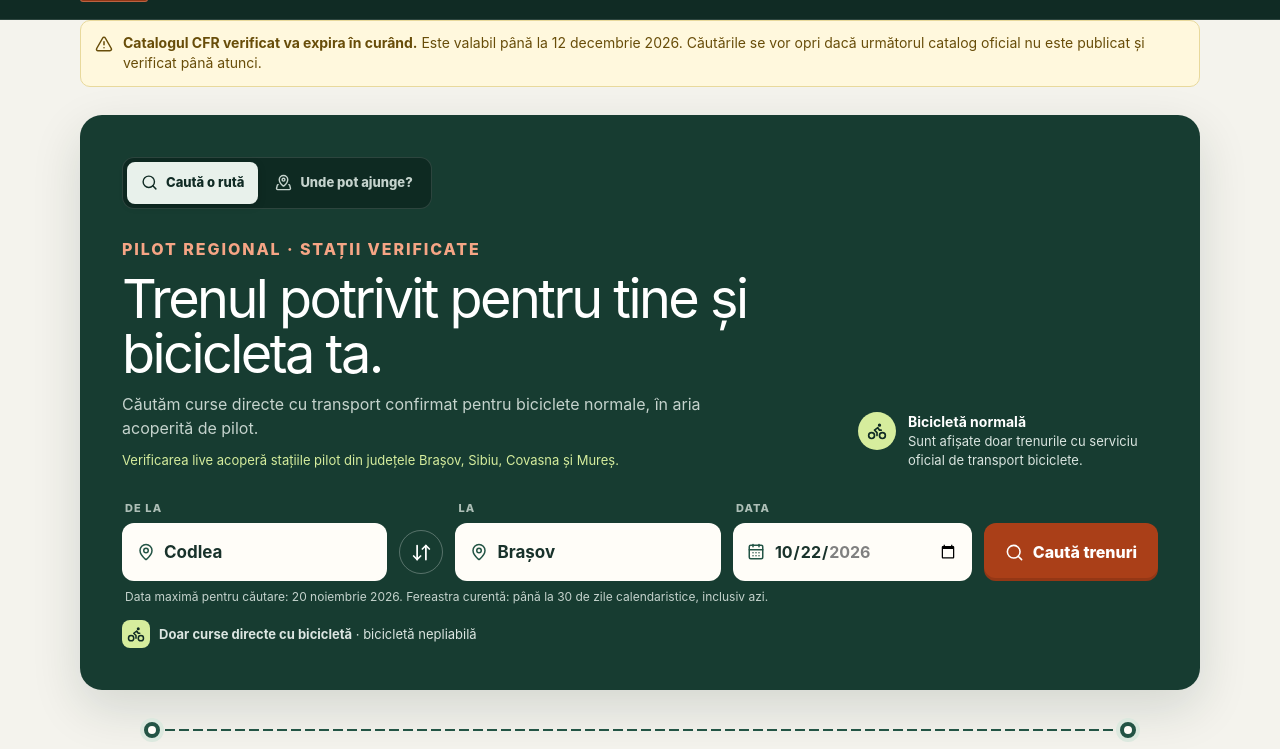
Test: BikeTrain app › discovers a direct destination and opens it in route search
Replace the text in the dropdown labelled "De la" with "Brașov" at (268, 552), box [164,526,372,580]
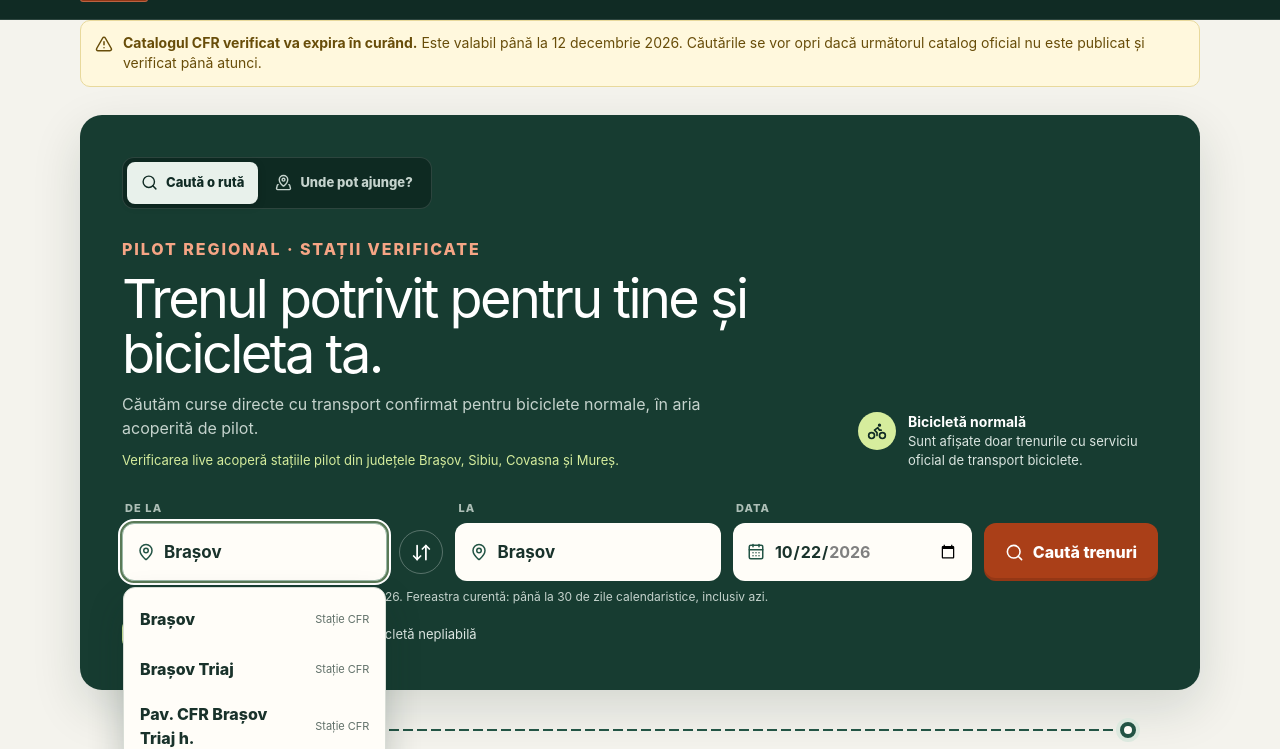
Press Arrowdown Enter
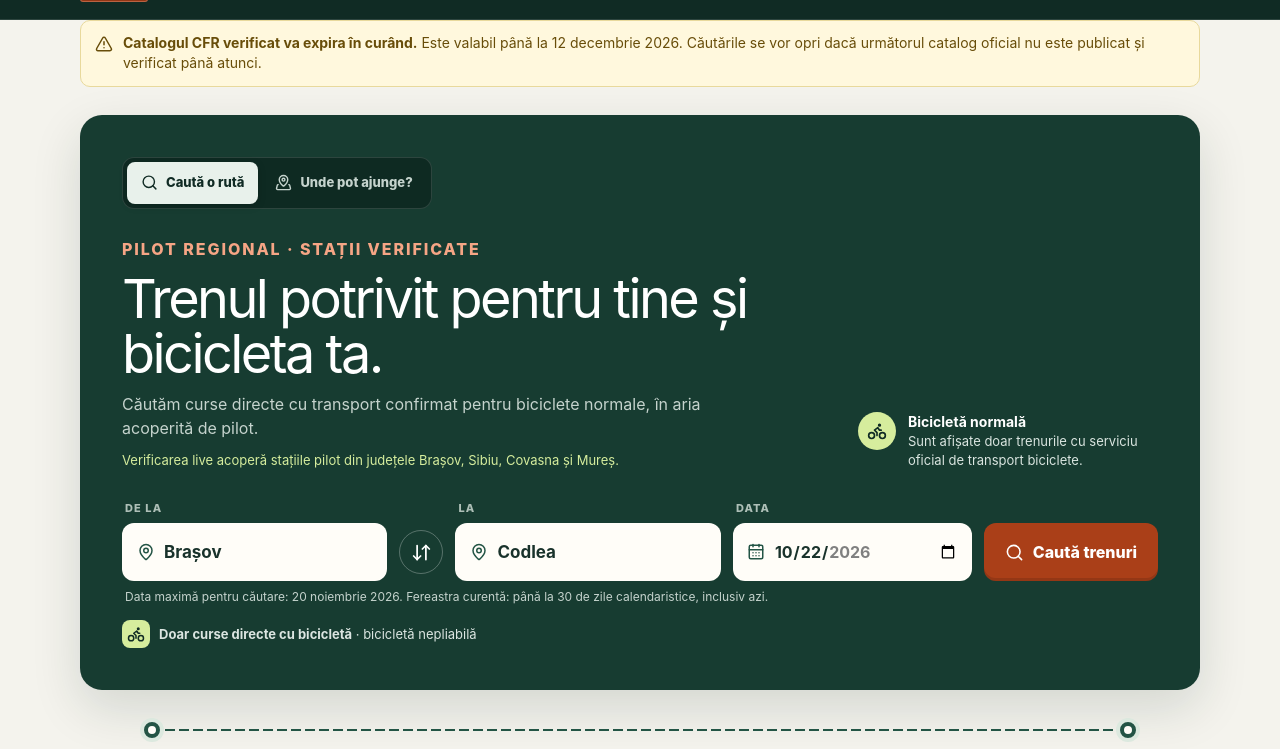
Click the tab "Unde pot ajunge?".
click(344, 183)  # box [261,162,427,204]
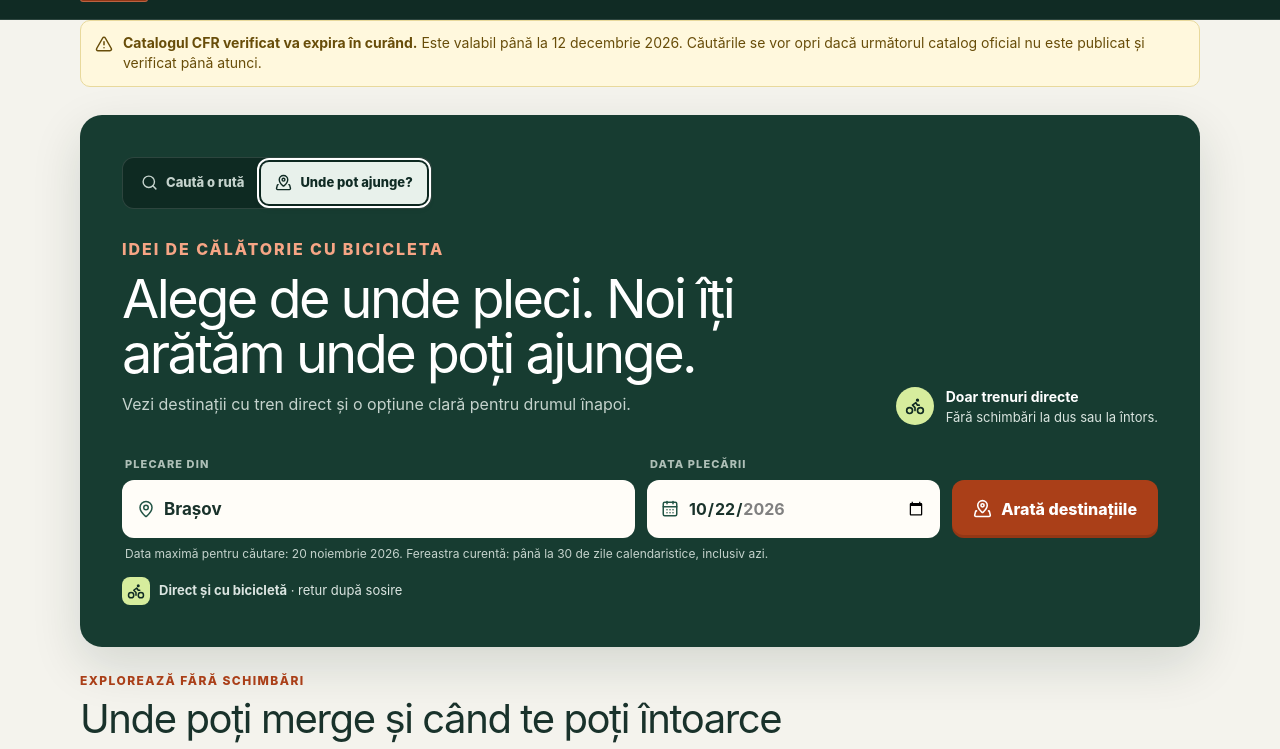
Check: the dropdown labelled "Plecare din" holds "Brașov", box [164,482,620,536]
Click the button "Arată destinațiile".
click(1055, 509)  # box [952,480,1158,538]
(page scrolled)
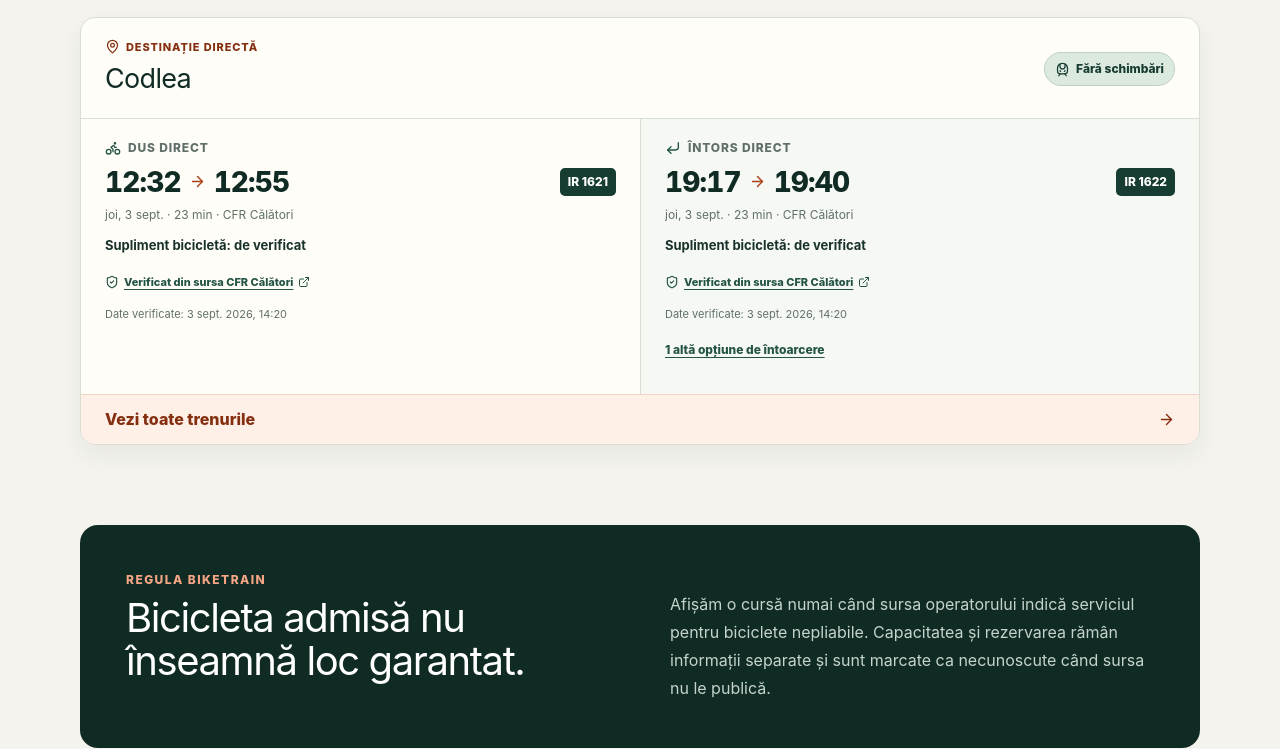
Check: the heading "Codlea" is shown, box [105,62,191,95]
Check: the text "IR 1621" is shown, box [560,168,616,196]
Check: the text "IR 1622" is shown, box [1116,168,1175,196]
Click the heading "1 altă opțiune de întoarcere".
click(745, 349)  # box [665,342,825,357]
(page scrolled)
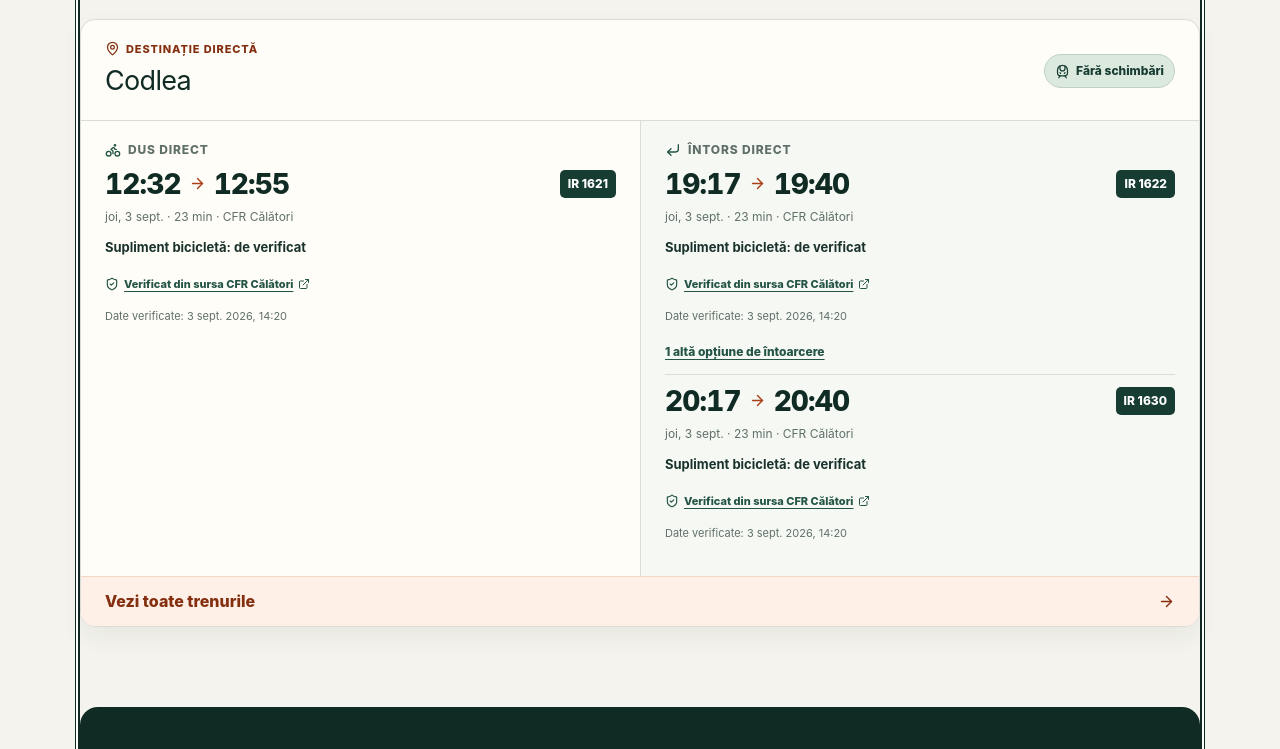
Check: the text "IR 1630" is shown, box [1116,387,1175,415]
Check: the text "20:17" is shown, box [665,387,741,415]
Check: the number of links named "Verificat din sursa CFR Călători (se deschide într-o filă nouă)" is 3, box [105,277,310,291]; [665,277,870,291]; [665,494,870,508]
Click the button with aria-label "Vezi ruta Brașov – Codlea".
click(180, 601)  # box [81,576,1199,626]
(page scrolled)
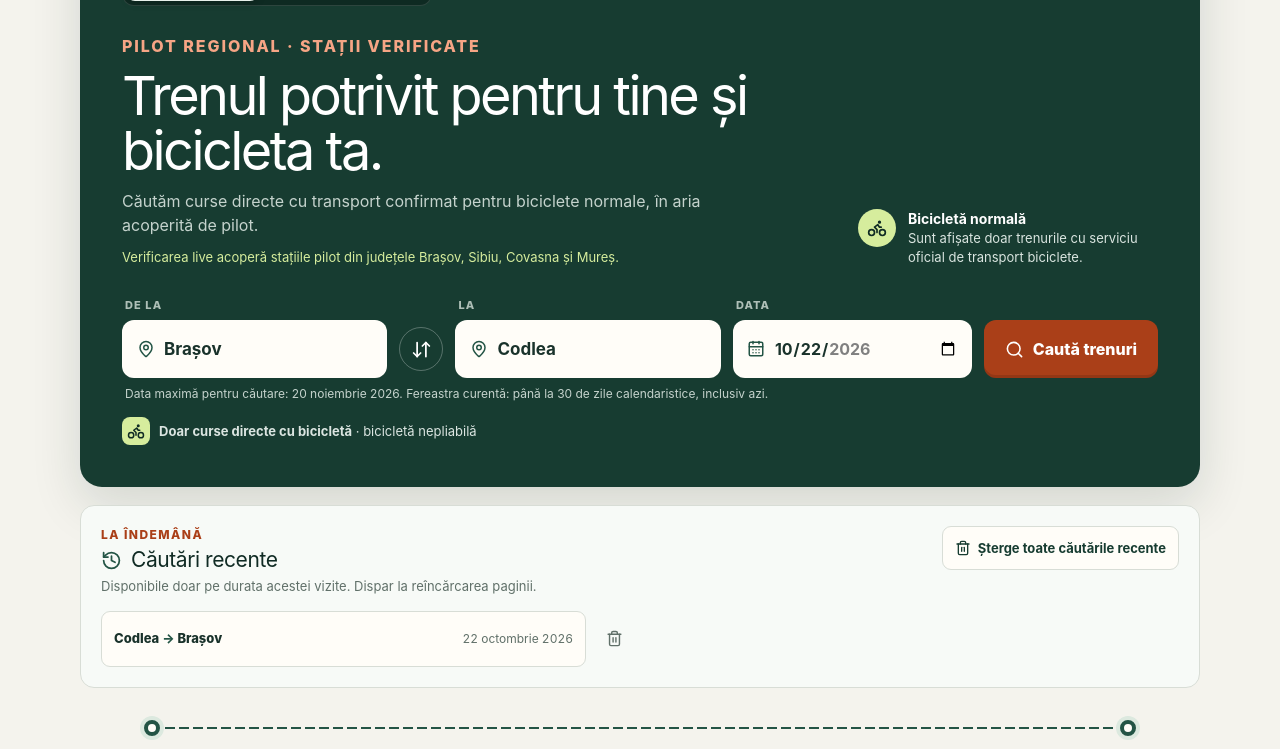
Check: the dropdown labelled "De la" holds "Brașov", box [164,322,372,376]
Check: the dropdown labelled "La" holds "Codlea", box [497,322,706,376]
